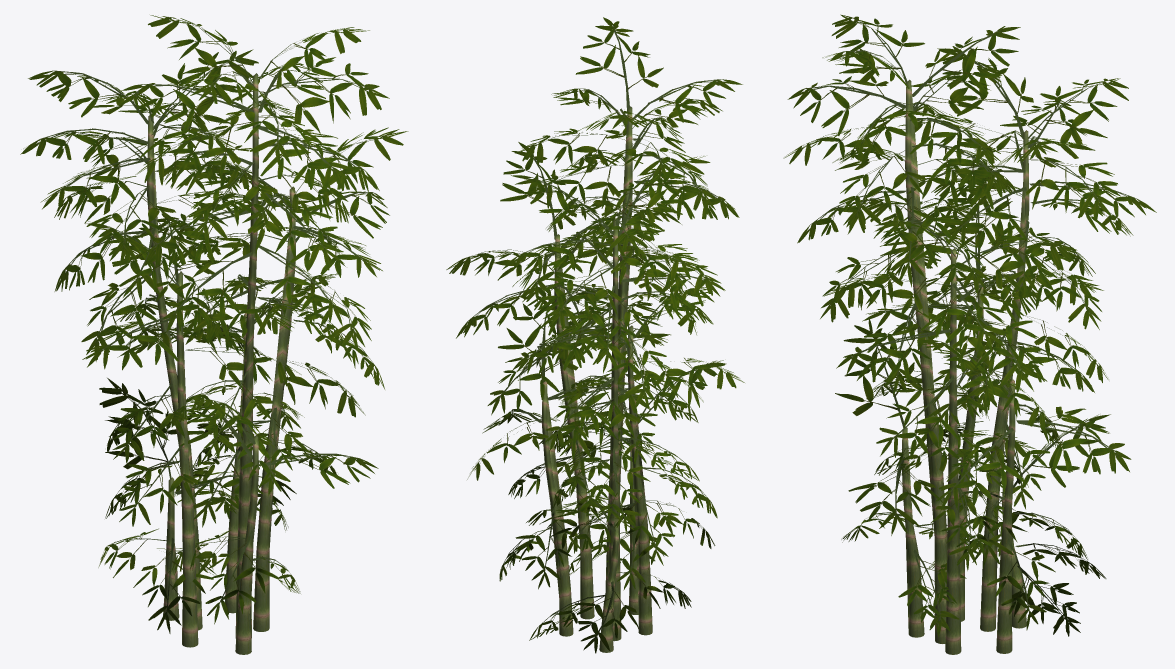
Rendered from guadua.glb.
3 renders of one model, left to right at view 1: azimuth 30°, elevation 25°; view 2: azimuth 150°, elevation 25°; view 3: azimuth 270°, elevation 25°, orthographic. The views are drawn at different scales.
Visible parts, largest first — view 1: cerca, lejos; view 2: cerca, lejos; view 3: cerca, lejos.
Part boxes in pixels (x1,y1,x2,y2): cerca: [20, 16, 408, 654]; lejos: [22, 15, 407, 639]; cerca: [446, 17, 744, 653]; lejos: [447, 19, 743, 652]; cerca: [785, 15, 1156, 654]; lejos: [783, 15, 1154, 648].
Bounding box in the file's own units: 6.69 × 12 × 6.79.
Materials: 2 (2 with a texture image).
